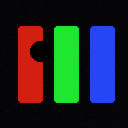2 circle: (30, 41, 50, 61)
